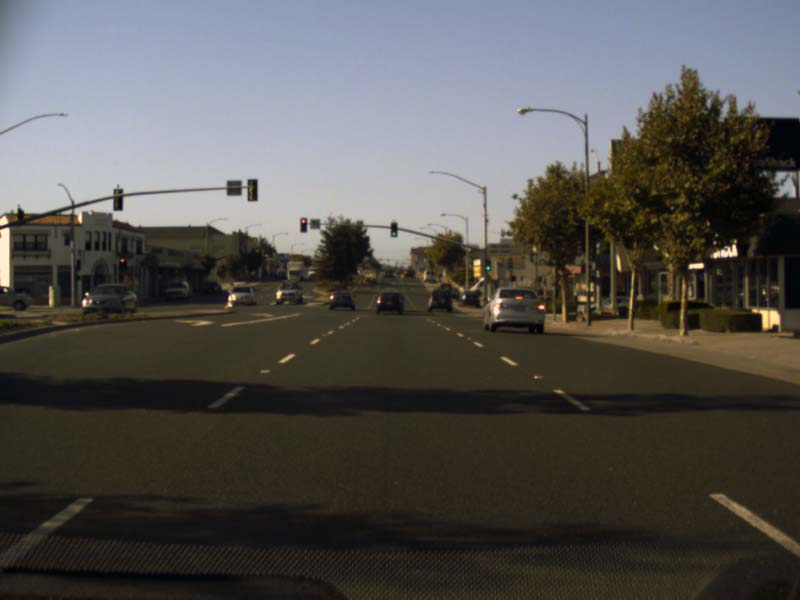Green: (390, 222, 397, 237), (484, 259, 490, 270)
Red: (118, 257, 127, 271), (299, 218, 306, 232)
